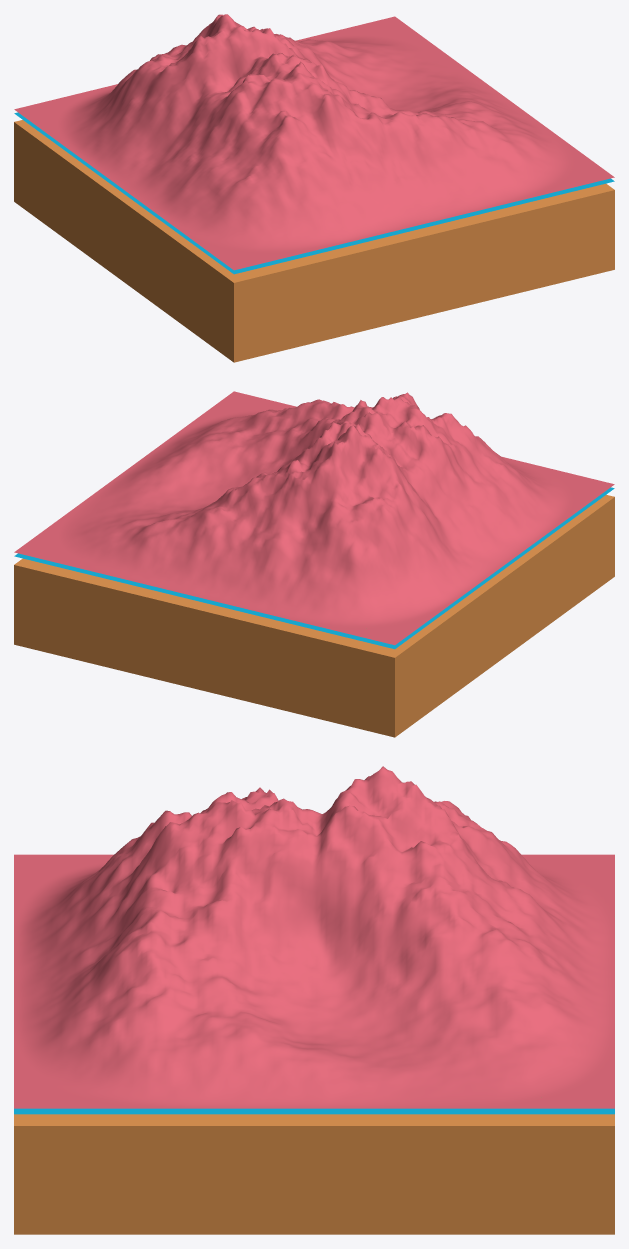
3 views of the same model, one above another, from view 1: azimuth 30°, elevation 25°; view 2: azimuth 150°, elevation 25°; view 3: azimuth 270°, elevation 25° (orthographic). The views are drawn at different scales.
Visible parts, largest first — view 1: land.mountain, sed.mud, Landscape_plane; view 2: land.mountain, sed.mud, Landscape_plane; view 3: land.mountain, sed.mud, Landscape_plane.
Boxes of the visible parts, x1=… form: land.mountain: x1=14, y1=14, x2=614, y2=270; sed.mud: x1=14, y1=120, x2=614, y2=362; Landscape_plane: x1=14, y1=112, x2=614, y2=274; land.mountain: x1=14, y1=391, x2=614, y2=645; sed.mud: x1=14, y1=494, x2=614, y2=737; Landscape_plane: x1=14, y1=487, x2=614, y2=649; land.mountain: x1=14, y1=766, x2=614, y2=1108; sed.mud: x1=14, y1=1114, x2=614, y2=1234; Landscape_plane: x1=14, y1=1108, x2=614, y2=1114.
Bounding box in the file's own units: 2 × 1.1 × 2.
